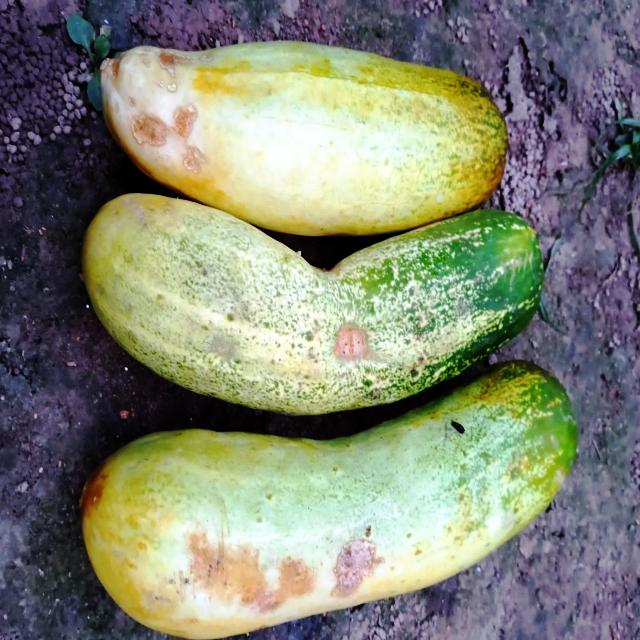Belly-Rot: (112, 35, 216, 182), (182, 528, 317, 620), (330, 540, 386, 598), (330, 320, 374, 363)
